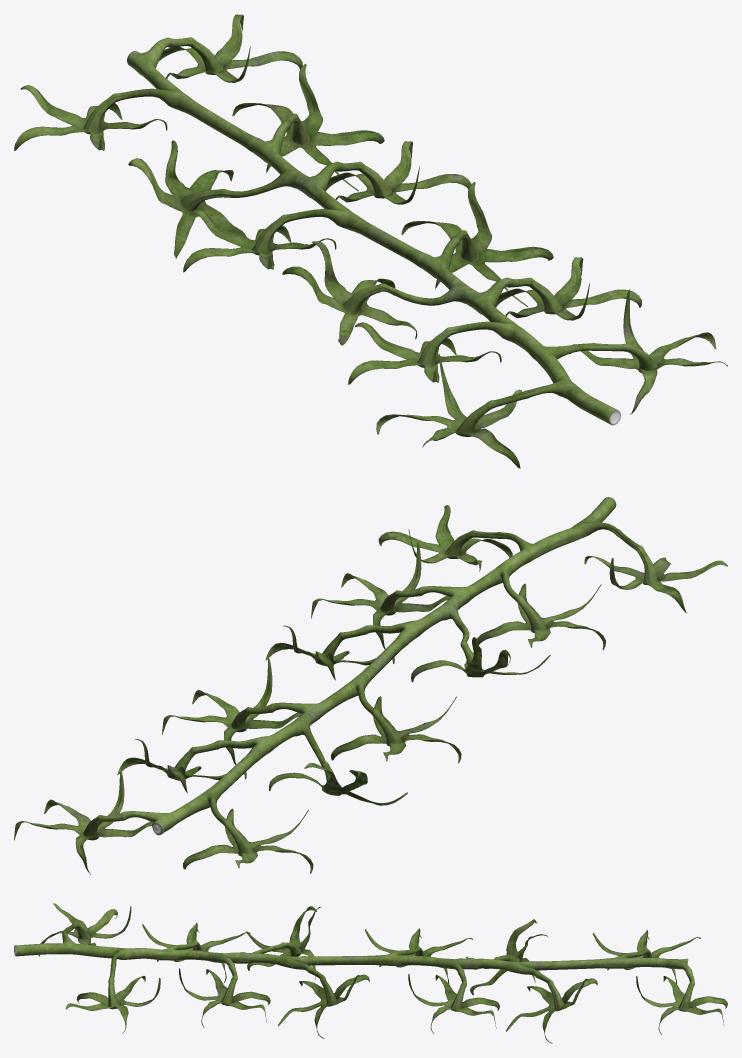
File: stem.obj
The picture shows the model from 3 angles, top to bottom: view 1: azimuth 30°, elevation 25°; view 2: azimuth 150°, elevation 25°; view 3: azimuth 270°, elevation 25°; orthographic projection. The views are drawn at different scales.
Visible parts, largest first — view 1: stem; view 2: stem; view 3: stem.
Part boxes in pixels (x1,y1,x2,y2): stem: (14,14,727,468); stem: (14,497,727,874); stem: (14,903,727,1043).
Bounding box in the file's own units: 9.53 × 2.83 × 25.29.
1 material, 1 textured.
